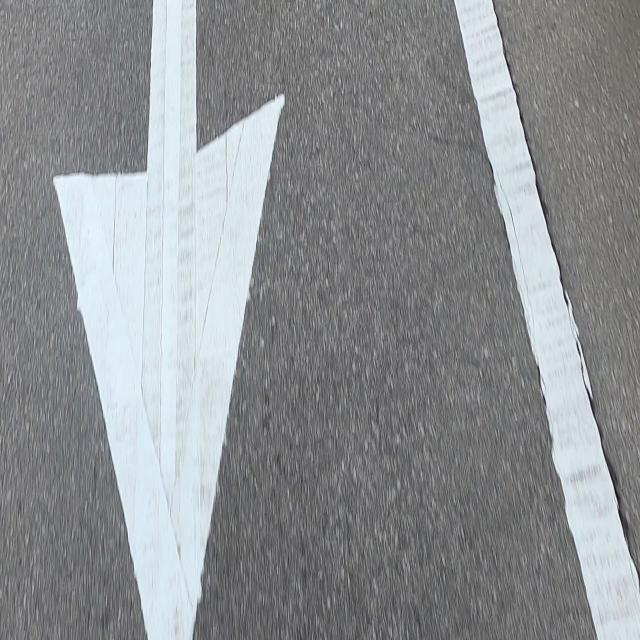Retak-Memanjang: (488, 0, 638, 595)
